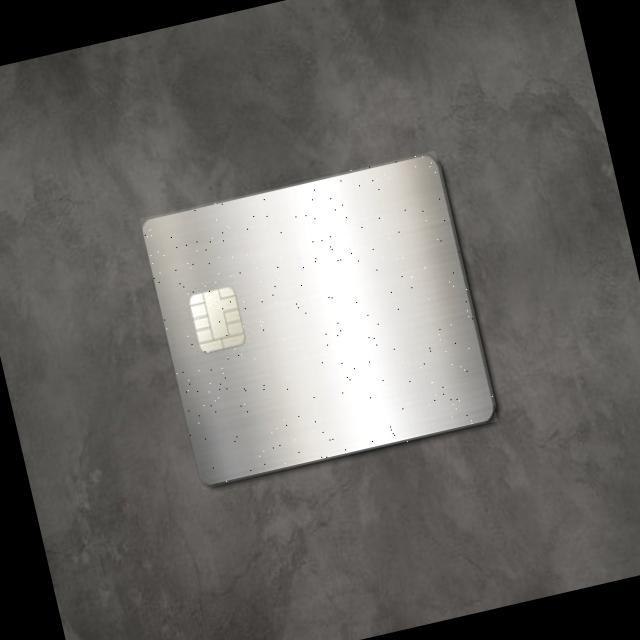payment_card: (140, 152, 497, 487)
